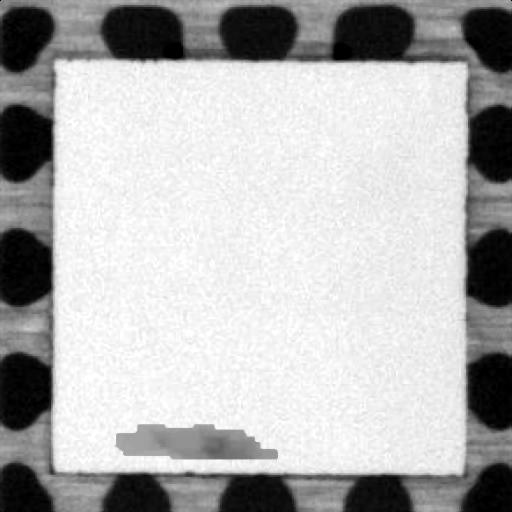DIE_INK: (106, 420, 276, 458)
